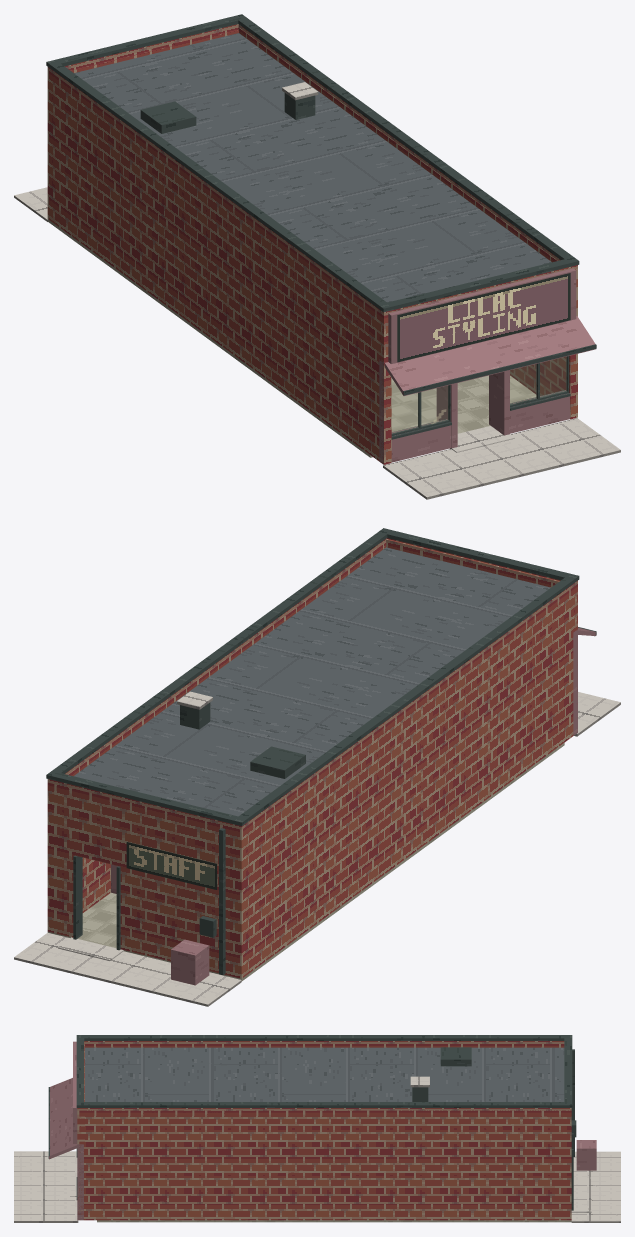
File: salon-1980-mid.glb
The picture shows the model from 3 angles, top to bottom: view 1: azimuth 30°, elevation 25°; view 2: azimuth 150°, elevation 25°; view 3: azimuth 270°, elevation 25°; orthographic projection. The views are drawn at different scales.
Visible parts, largest first — view 1: shell, lot, sign_name, fixed_interior; view 2: shell, lot, fixed_interior, sign_staff; view 3: shell, lot, fixed_interior.
Boxes of the visible parts, x1,y1,x2,y2 form: shell: [46, 14, 596, 464]; lot: [14, 187, 620, 499]; sign_name: [397, 273, 570, 362]; fixed_interior: [47, 219, 536, 457]; shell: [46, 528, 596, 978]; lot: [14, 692, 620, 1006]; fixed_interior: [47, 743, 564, 981]; sign_staff: [126, 842, 216, 889]; shell: [48, 1035, 591, 1220]; lot: [14, 1140, 620, 1222]; fixed_interior: [97, 1220, 571, 1222].
Size of what is drawn, in the model's own units: 6.05 by 5.06 by 22.1.
9 materials, 9 textured.
